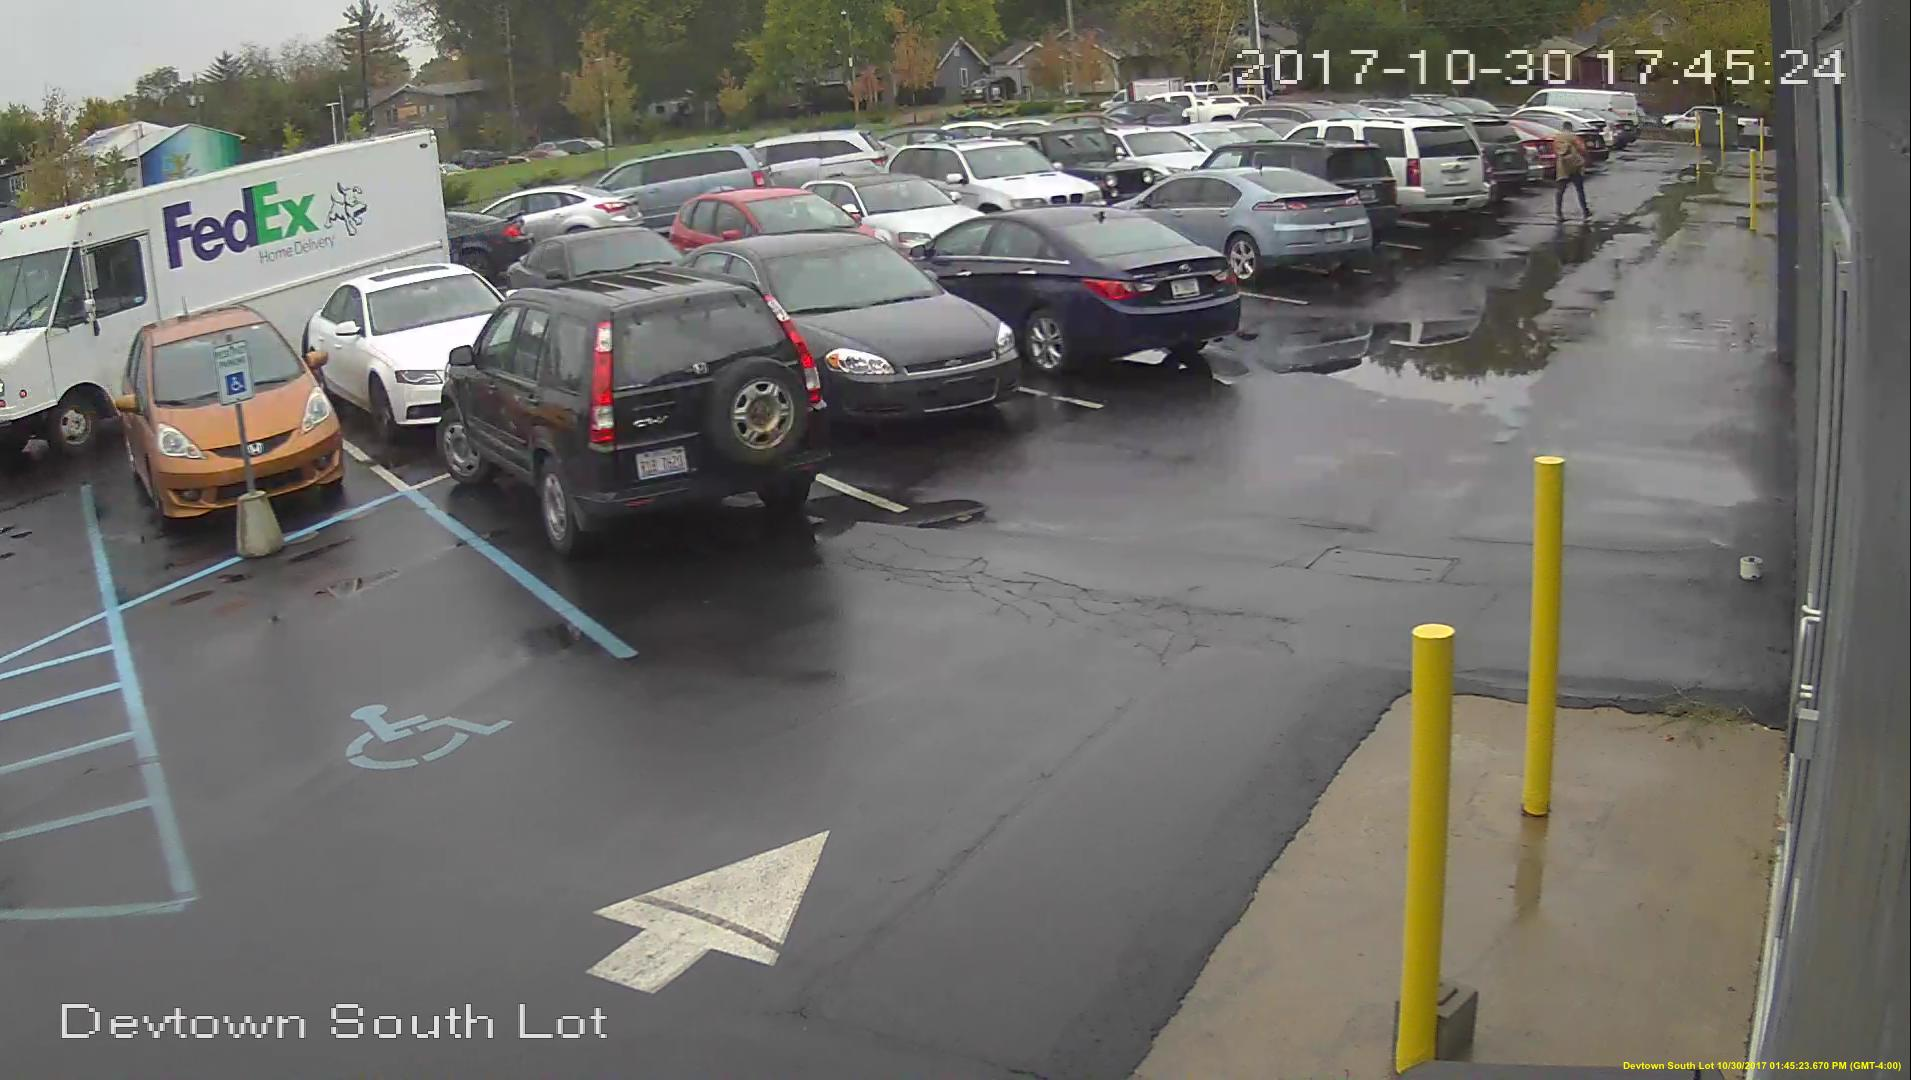fedex_truck: (1, 151, 438, 416)
